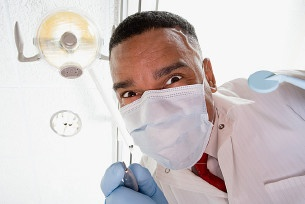Mask: (110, 65, 214, 169)
